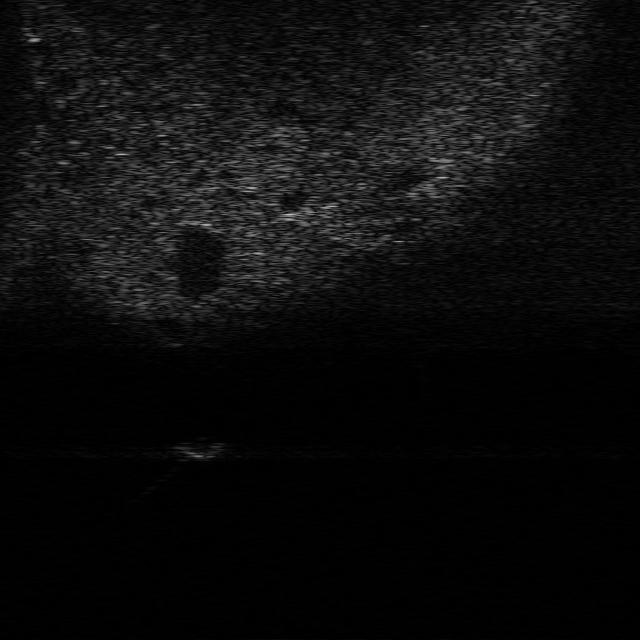cube: (175, 434, 226, 462)
